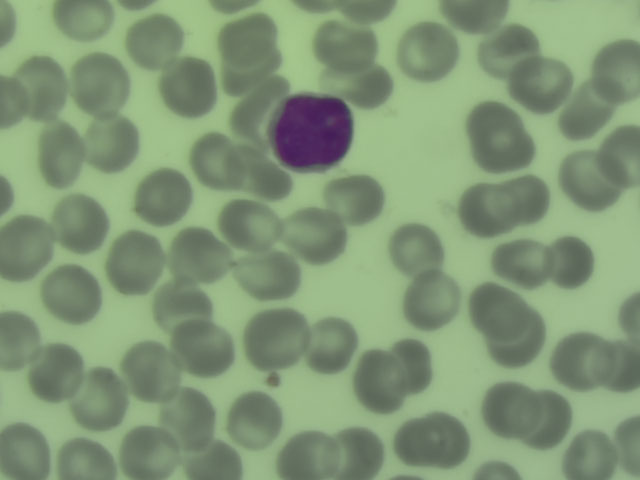RBC: (467, 106, 535, 169), (360, 345, 431, 404), (219, 9, 284, 56), (319, 61, 390, 104), (1, 216, 49, 279), (593, 39, 640, 102), (561, 426, 615, 480), (330, 426, 384, 480), (121, 426, 175, 480), (389, 222, 443, 275), (325, 176, 379, 229), (281, 205, 335, 258), (406, 280, 460, 333), (495, 316, 549, 369), (472, 283, 526, 336), (555, 333, 609, 386), (524, 393, 578, 446), (479, 381, 533, 434), (407, 410, 461, 463), (241, 249, 295, 302), (228, 395, 282, 448), (306, 321, 360, 374), (249, 310, 303, 363), (158, 393, 212, 446), (174, 324, 228, 377), (120, 344, 174, 397), (152, 278, 206, 331), (166, 228, 220, 281), (224, 199, 278, 252), (185, 133, 239, 186), (544, 236, 598, 289), (495, 235, 549, 288), (454, 182, 508, 235), (501, 172, 555, 225), (563, 154, 617, 207), (560, 86, 614, 139), (515, 56, 569, 109), (485, 23, 539, 76), (404, 26, 458, 79), (319, 19, 373, 72), (136, 170, 190, 223), (108, 234, 162, 287), (73, 371, 127, 424), (31, 348, 85, 401), (43, 268, 97, 321), (55, 198, 109, 251), (31, 127, 85, 180), (83, 117, 137, 170), (160, 61, 214, 114), (70, 56, 124, 109), (124, 15, 178, 68), (17, 60, 71, 113), (1, 425, 54, 478), (599, 124, 640, 192), (230, 83, 270, 151), (271, 435, 331, 480), (53, 435, 113, 480), (53, 1, 118, 41), (217, 51, 285, 88), (1, 311, 43, 370), (226, 155, 289, 192), (605, 342, 640, 398), (193, 444, 246, 480), (609, 285, 640, 342), (444, 1, 508, 26), (616, 416, 640, 480), (1, 74, 25, 129), (337, 1, 395, 19)
WBC: (268, 93, 358, 173)
